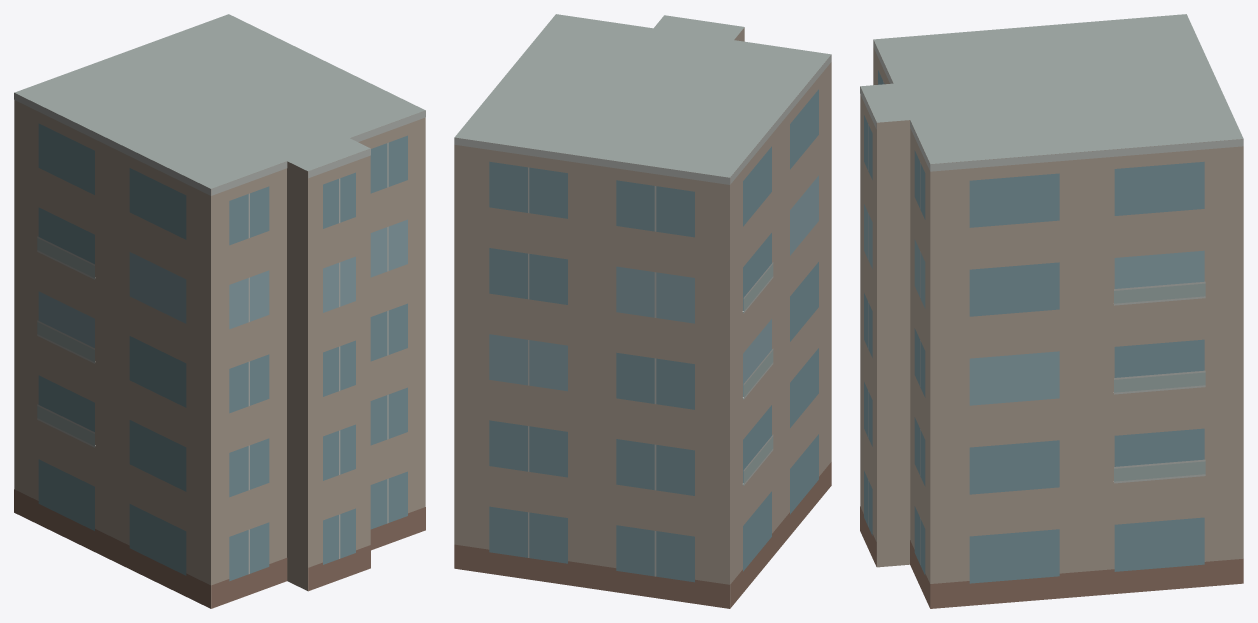
File: survey-upis-32609138.glb
3 renders of one model, left to right at view 1: azimuth 30°, elevation 25°; view 2: azimuth 150°, elevation 25°; view 3: azimuth 270°, elevation 25°, orthographic. The views are drawn at different scales.
Visible parts, largest first — view 1: survey-upis-32609138.tmp; view 2: survey-upis-32609138.tmp; view 3: survey-upis-32609138.tmp.
Part boxes in pixels (<box>): survey-upis-32609138.tmp: <box>14,14,425,608</box>; survey-upis-32609138.tmp: <box>454,14,831,608</box>; survey-upis-32609138.tmp: <box>860,14,1243,608</box>.
Bounding box in the file's own units: 10.51 × 14.5 × 11.34.
